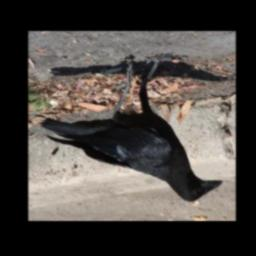Crow: (41, 56, 224, 206)
